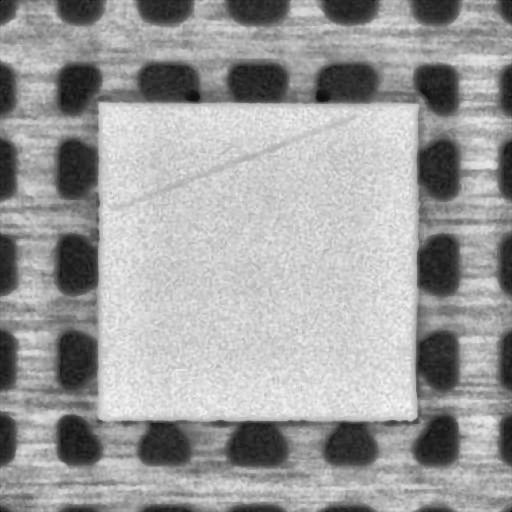DIE_CRACK: (111, 115, 354, 209)
